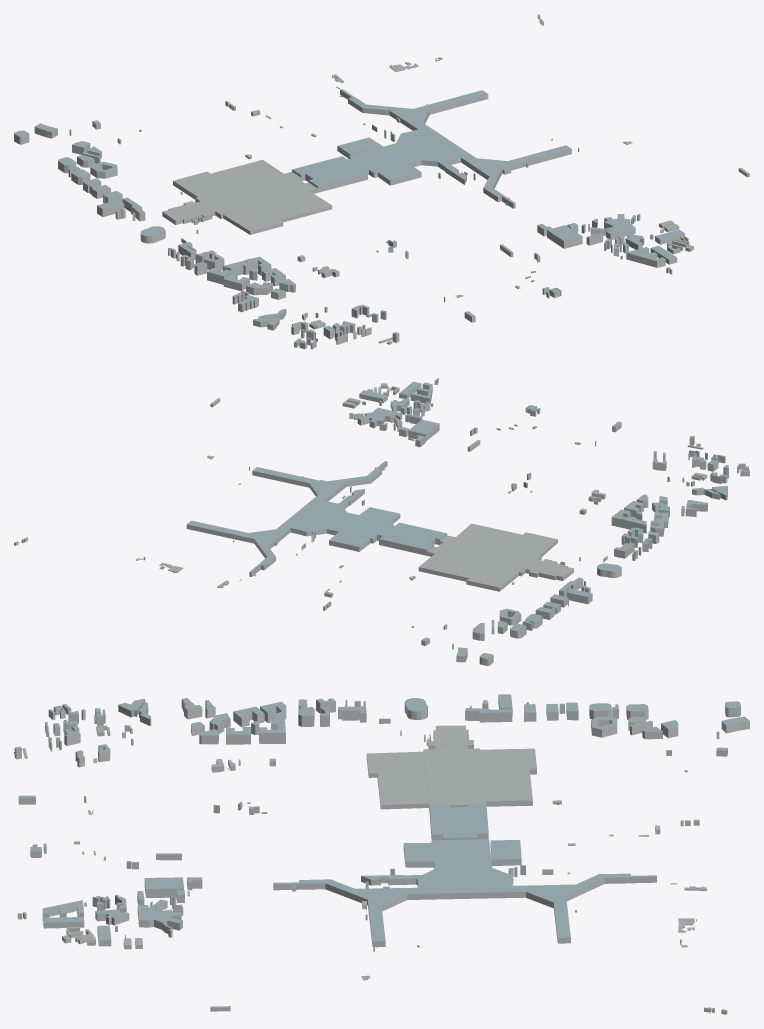
Rendered from far.glb.
3 views of the same model, one above another, from view 1: azimuth 30°, elevation 25°; view 2: azimuth 150°, elevation 25°; view 3: azimuth 270°, elevation 25° (orthographic). The views are drawn at different scales.
Size of the model in its own units: 2139 by 36.5 by 2139.
